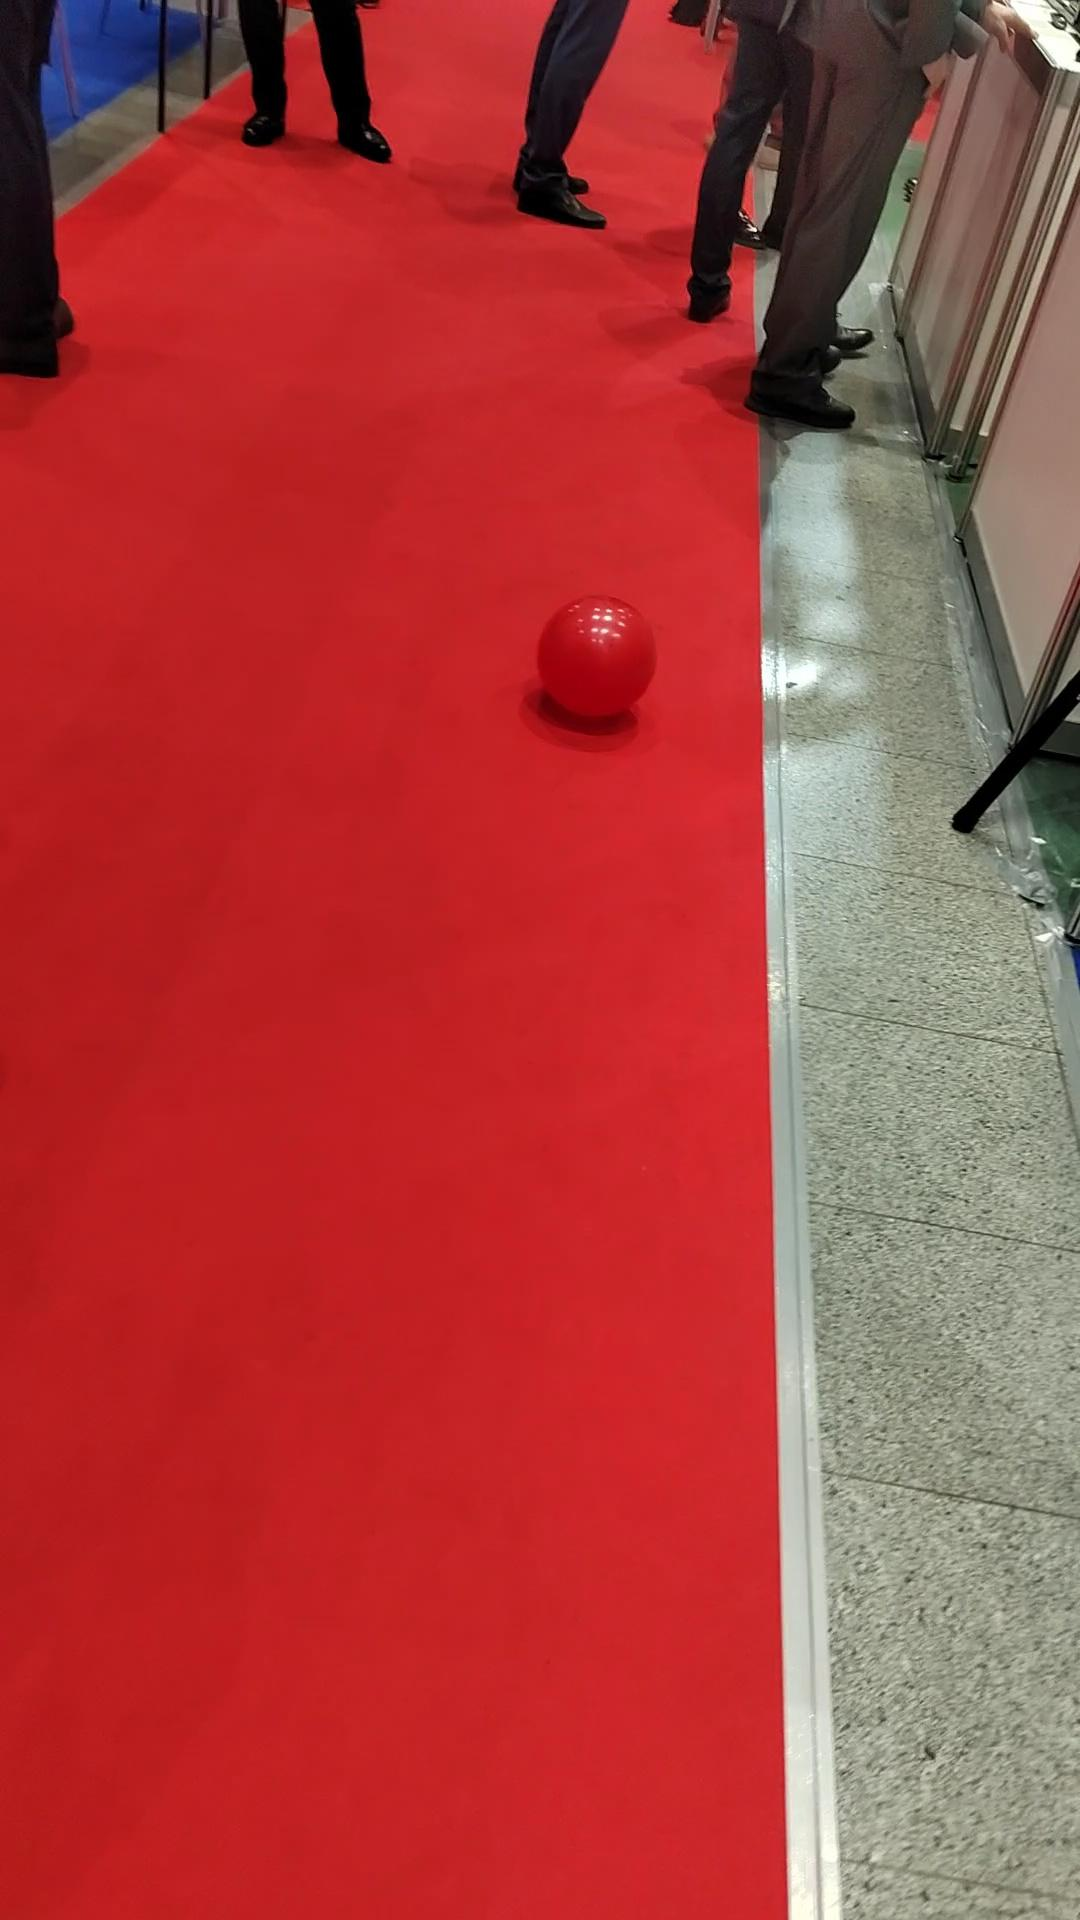red: (535, 596, 657, 721)
